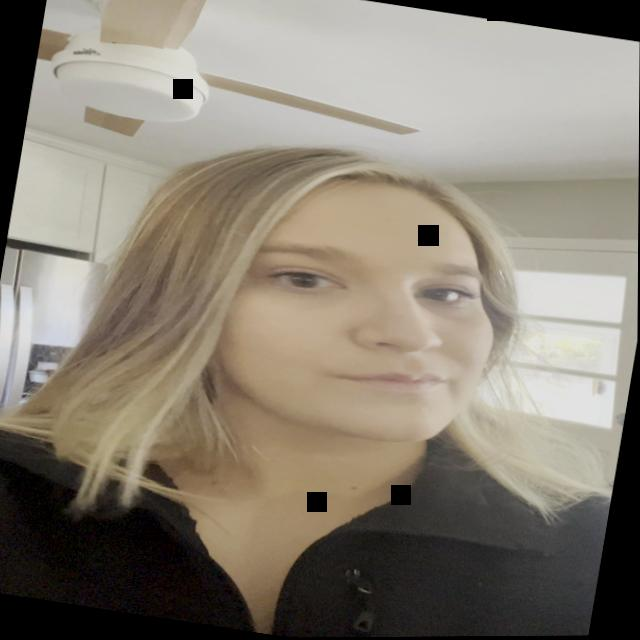NO-Mask: (107, 128, 543, 505)
